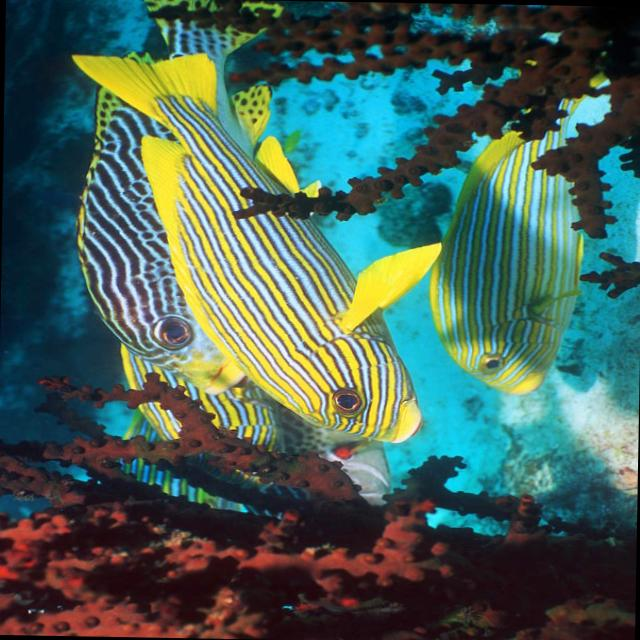RibbonedSweetlips: (63, 48, 447, 444), (427, 47, 608, 396)
